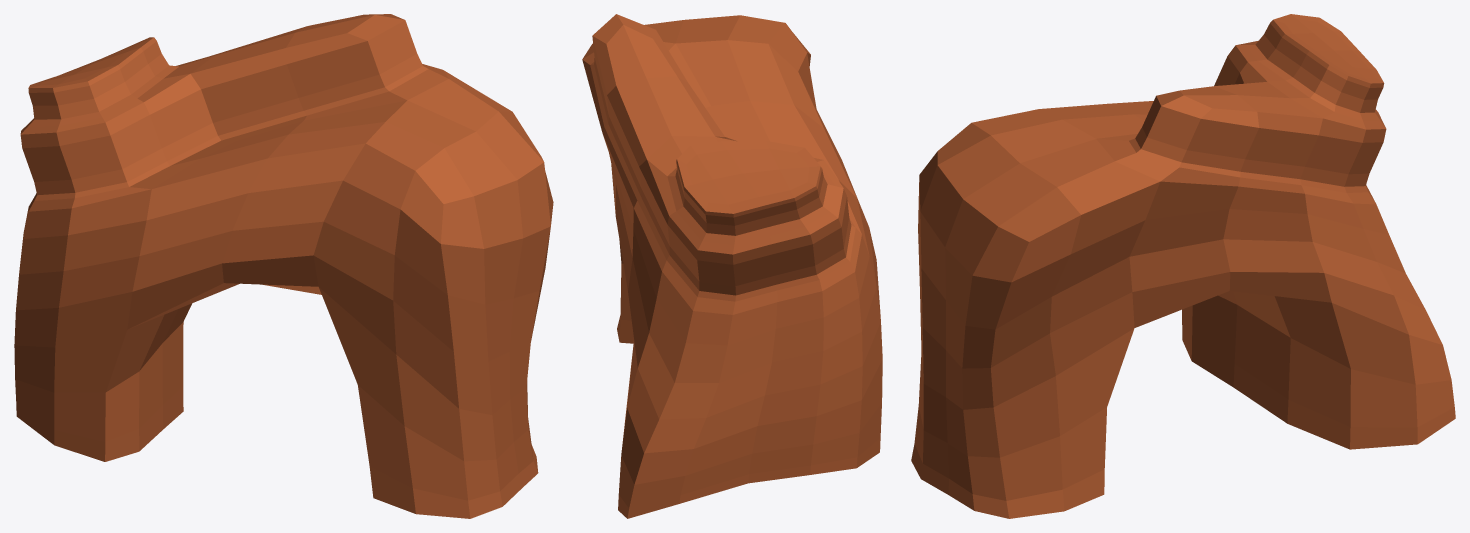
File: BigRock2.fbx
3 renders of one model, left to right at view 1: azimuth 30°, elevation 25°; view 2: azimuth 150°, elevation 25°; view 3: azimuth 270°, elevation 25°, orthographic. The views are drawn at different scales.
Parts seen in each view (by area): view 1: BigRock2; view 2: BigRock2; view 3: BigRock2.
Part boxes in pixels (x1,y1,x2,y2): BigRock2: [14, 14, 553, 518]; BigRock2: [582, 14, 882, 518]; BigRock2: [911, 14, 1455, 518].
Bounding box in the file's own units: 30.8 × 30.35 × 36.9.
